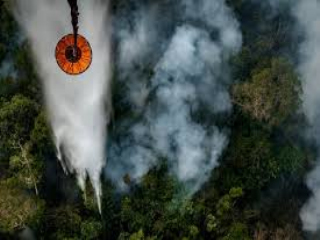smoke: (136, 28, 246, 193), (34, 65, 122, 217)
